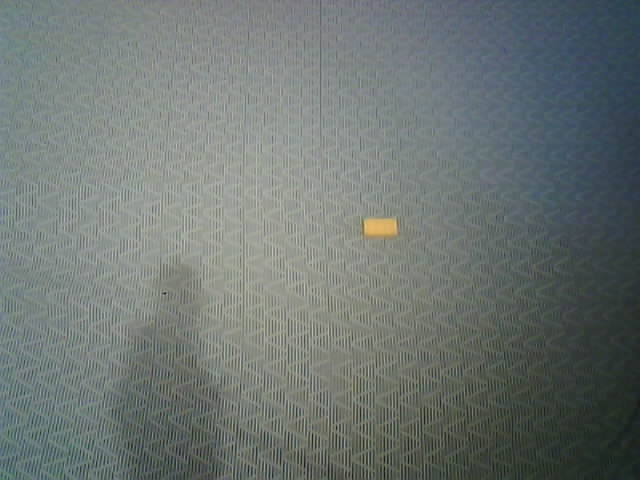lego: (361, 217, 399, 239)
